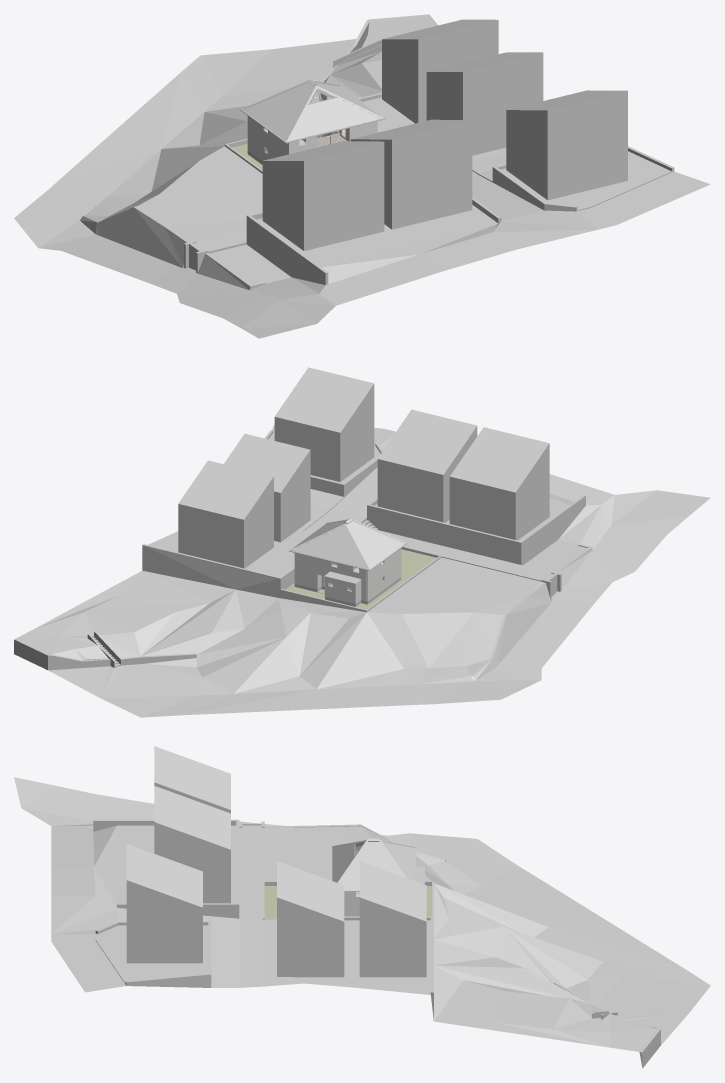
File: ifaa_house_03_invertZ.glb
The picture shows the model from 3 angles, top to bottom: view 1: azimuth 30°, elevation 25°; view 2: azimuth 150°, elevation 25°; view 3: azimuth 270°, elevation 25°; orthographic projection. The views are drawn at different scales.
Parts seen in each view (by area): view 1: ポリゴン (×15), 柱状体 site_3 (×5), 屋根 (×2), 外壁 (×2); view 2: ポリゴン (×12), 柱状体 site_3 (×5), 外壁 (×3), 屋根 (×2), 3D 多角形 site_2; view 3: ポリゴン (×12), 柱状体 site_3 (×5), 屋根 (×3).
Part boxes in pixels (bbox=[...]): ポリゴン (×15): bbox=[14, 14, 710, 338]; 柱状体 site_3 (×5): bbox=[262, 19, 627, 250]; 屋根 (×2): bbox=[243, 82, 382, 141]; 外壁 (×2): bbox=[248, 116, 376, 161]; ポリゴン (×12): bbox=[14, 424, 710, 717]; 柱状体 site_3 (×5): bbox=[178, 367, 549, 568]; 外壁 (×3): bbox=[295, 548, 400, 603]; 屋根 (×2): bbox=[290, 521, 405, 569]; 3D 多角形 site_2: bbox=[362, 556, 435, 609]; ポリゴン (×12): bbox=[14, 777, 710, 1068]; 柱状体 site_3 (×5): bbox=[126, 746, 426, 977]; 屋根 (×3): bbox=[332, 842, 415, 890].
Size of what is drawn, in the model's own units: 54.01 by 16.91 by 68.14.
Materials: 56 (8 with a texture image).
